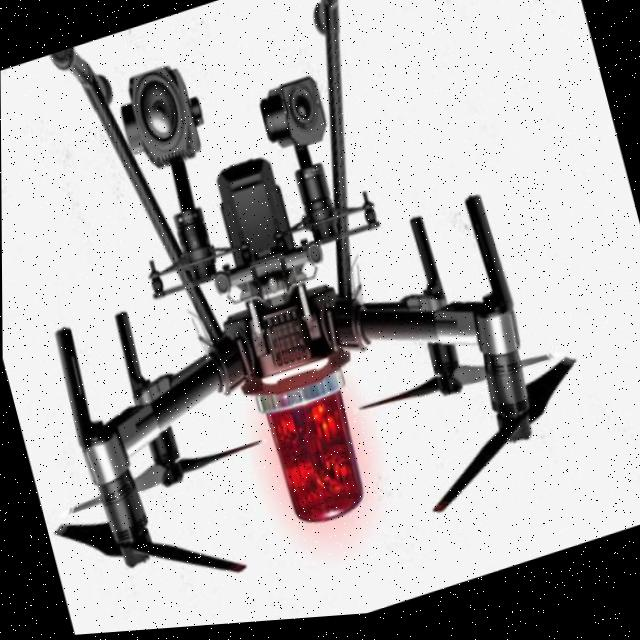drones: (0, 0, 623, 640)
